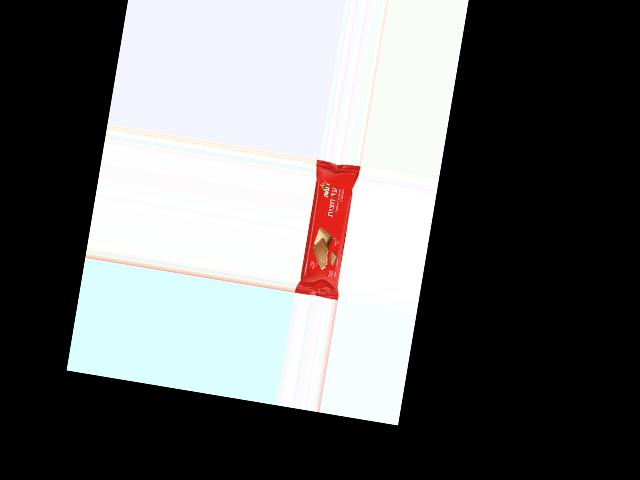chocolate: (295, 162, 360, 298)
